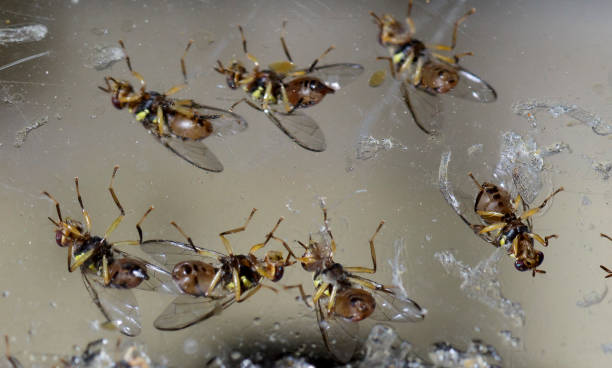Fruit fly: (369, 15, 506, 146), (213, 33, 343, 164), (294, 230, 438, 346), (167, 208, 298, 334), (40, 192, 155, 323), (107, 60, 230, 182), (461, 160, 563, 293)
